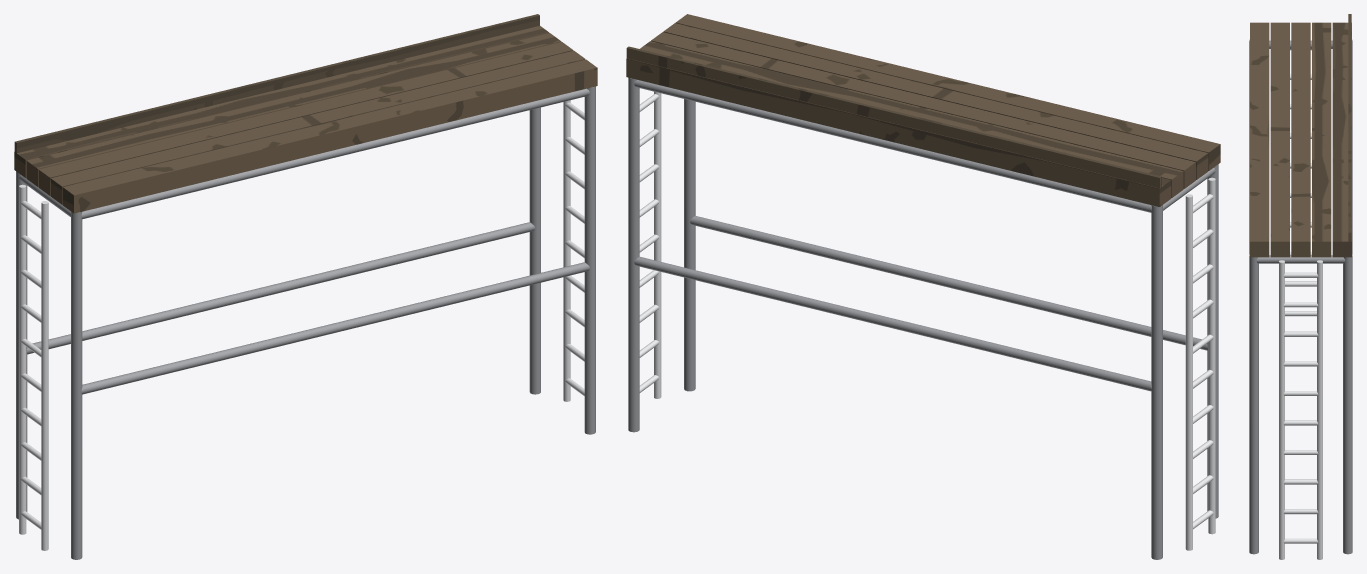
The model's file is SM_Prop_Scaffold_01.fbx.
The picture shows the model from 3 angles, left to right: view 1: azimuth 30°, elevation 25°; view 2: azimuth 150°, elevation 25°; view 3: azimuth 270°, elevation 25°; orthographic projection. The views are drawn at different scales.
Visible parts, largest first — view 1: SM_Prop_Scaffold_Deck, SM_Prop_Scaffold_Frame, SM_Prop_Scaffold_Ladders; view 2: SM_Prop_Scaffold_Deck, SM_Prop_Scaffold_Frame, SM_Prop_Scaffold_Ladders; view 3: SM_Prop_Scaffold_Deck, SM_Prop_Scaffold_Frame, SM_Prop_Scaffold_Ladders.
Boxes of the visible parts, x1,y1,x2,y2 form: SM_Prop_Scaffold_Deck: [14, 14, 597, 213]; SM_Prop_Scaffold_Frame: [16, 86, 595, 559]; SM_Prop_Scaffold_Ladders: [19, 100, 584, 550]; SM_Prop_Scaffold_Deck: [626, 14, 1220, 206]; SM_Prop_Scaffold_Frame: [628, 77, 1218, 559]; SM_Prop_Scaffold_Ladders: [639, 91, 1215, 550]; SM_Prop_Scaffold_Deck: [1250, 14, 1351, 257]; SM_Prop_Scaffold_Frame: [1249, 39, 1352, 554]; SM_Prop_Scaffold_Ladders: [1279, 49, 1322, 559].
Size of the model in its own units: 7.89 by 5.14 by 1.5.
Materials: 3 (1 with a texture image).
